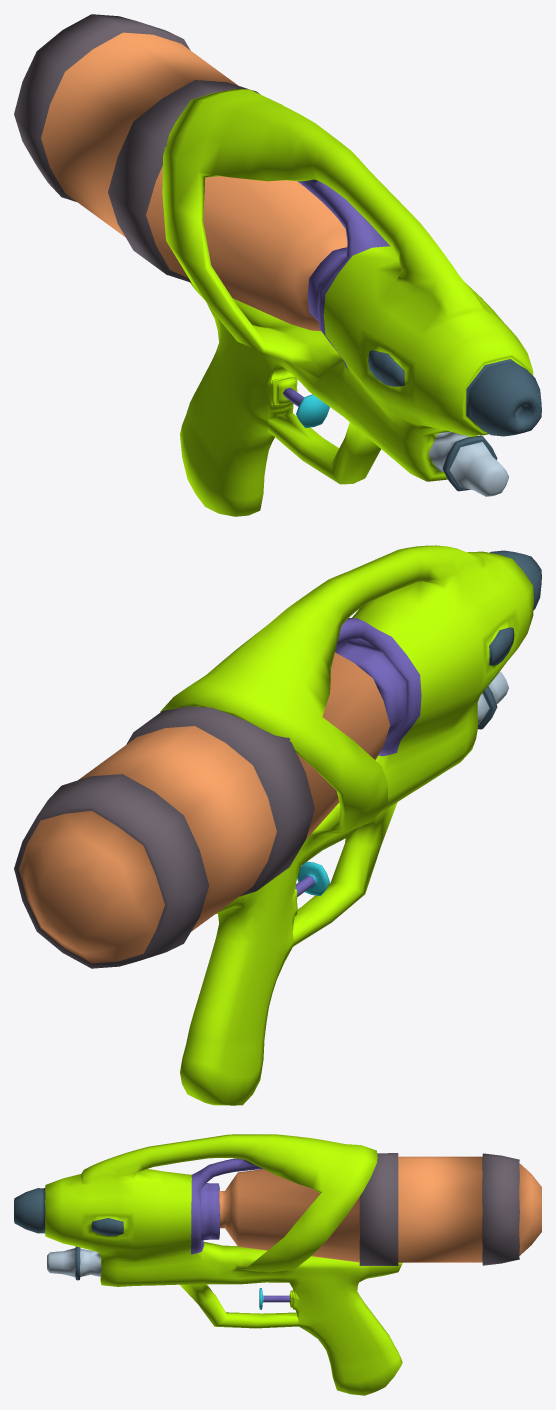
The model's file is Watergun1.fbx.
The picture shows the model from 3 angles, top to bottom: view 1: azimuth 30°, elevation 25°; view 2: azimuth 150°, elevation 25°; view 3: azimuth 270°, elevation 25°; orthographic projection. The views are drawn at different scales.
Parts seen in each view (by area): view 1: Watergun1; view 2: Watergun1; view 3: Watergun1.
Part boxes in pixels (x1,y1,x2,y2): Watergun1: [14, 14, 541, 516]; Watergun1: [14, 545, 541, 1105]; Watergun1: [14, 1134, 541, 1395].
Size of the model in its own units: 0.0998 by 0.2204 by 0.412.
